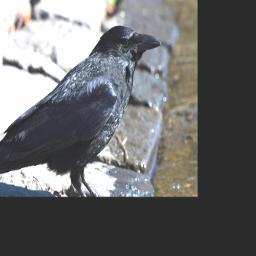Crow: (0, 24, 164, 197)
